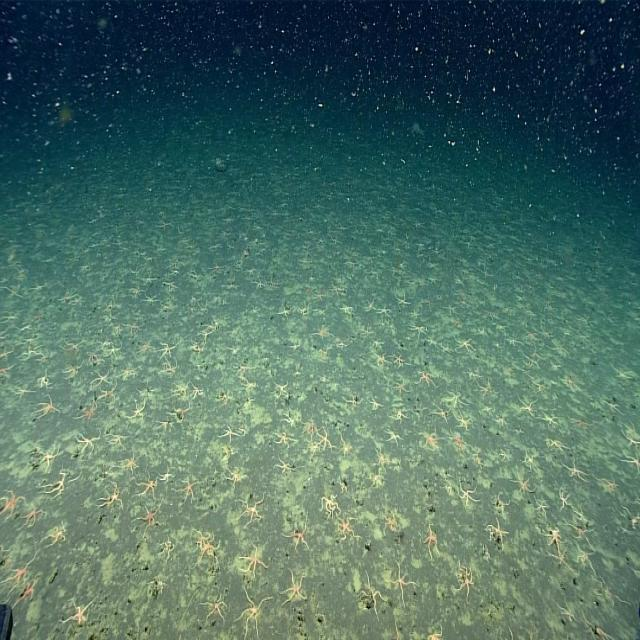brittle-stars: (191, 521, 218, 569), (240, 589, 260, 640), (61, 595, 93, 626), (15, 378, 42, 411), (8, 559, 31, 597), (454, 477, 478, 512), (454, 564, 477, 600), (241, 543, 265, 577), (289, 518, 309, 558), (570, 404, 591, 441), (336, 510, 358, 545), (564, 454, 586, 488), (23, 506, 45, 539), (75, 432, 99, 462), (18, 581, 38, 616), (360, 577, 380, 612), (572, 507, 591, 543), (488, 518, 508, 552), (203, 590, 229, 616), (285, 574, 303, 611), (394, 563, 410, 604), (420, 526, 437, 562), (40, 401, 64, 426), (318, 489, 341, 515), (602, 583, 624, 610), (405, 316, 429, 340), (624, 506, 640, 542), (520, 447, 541, 474), (275, 448, 292, 481), (46, 474, 66, 502), (88, 346, 106, 377), (177, 473, 193, 507), (2, 492, 20, 522), (383, 509, 402, 537), (103, 483, 121, 512), (548, 526, 566, 555), (433, 400, 450, 430), (23, 343, 44, 367), (577, 548, 595, 576), (625, 442, 640, 475), (2, 308, 20, 335), (82, 402, 98, 432), (494, 488, 508, 522), (553, 551, 572, 576), (600, 395, 622, 416), (540, 410, 562, 431), (314, 429, 332, 454), (456, 402, 470, 434), (517, 398, 538, 419), (94, 372, 114, 394), (418, 365, 436, 389), (602, 475, 620, 499), (244, 498, 259, 526), (139, 473, 158, 495), (98, 388, 120, 407), (439, 300, 462, 318), (223, 420, 240, 444), (142, 503, 156, 532), (36, 444, 51, 471), (67, 337, 87, 357), (340, 434, 354, 462), (181, 343, 204, 360), (395, 376, 410, 402), (200, 320, 219, 340), (420, 432, 439, 452), (225, 470, 243, 491), (414, 627, 443, 640), (304, 440, 321, 462), (171, 382, 190, 401), (348, 390, 366, 410), (128, 316, 144, 338), (457, 335, 473, 357), (476, 380, 492, 402), (210, 257, 225, 280), (625, 423, 640, 446), (450, 430, 463, 456), (534, 495, 548, 519), (276, 301, 289, 326), (36, 372, 54, 390), (549, 435, 567, 453), (108, 342, 123, 363), (334, 340, 355, 355), (8, 278, 19, 306), (396, 290, 410, 312), (517, 479, 531, 501), (293, 302, 309, 321), (166, 262, 182, 280), (373, 351, 389, 369), (0, 347, 13, 369), (165, 540, 175, 568), (526, 328, 540, 348), (448, 385, 462, 405), (395, 349, 407, 372), (525, 352, 537, 375), (1, 365, 14, 386), (276, 436, 294, 451), (175, 405, 187, 427), (516, 422, 528, 444), (52, 524, 61, 553), (220, 388, 233, 408), (103, 297, 119, 313), (340, 302, 356, 318), (424, 272, 440, 288), (376, 303, 390, 321), (552, 342, 566, 360), (132, 399, 142, 424), (161, 421, 174, 440), (456, 273, 469, 292), (386, 428, 401, 444), (274, 380, 287, 398), (361, 324, 374, 342), (506, 335, 519, 353), (364, 298, 376, 317), (123, 368, 139, 382), (189, 388, 205, 402), (562, 376, 576, 392), (534, 378, 548, 394), (126, 462, 139, 479), (303, 419, 320, 432), (250, 262, 260, 284), (290, 335, 300, 357), (377, 448, 388, 468), (113, 433, 125, 451), (194, 304, 212, 316), (286, 408, 296, 429), (474, 450, 484, 471), (316, 326, 331, 340), (329, 282, 344, 296), (236, 359, 252, 372), (157, 220, 173, 233), (162, 466, 172, 486), (139, 275, 157, 286), (164, 360, 179, 373), (160, 340, 176, 352), (398, 407, 408, 426), (316, 305, 327, 322), (65, 362, 78, 376), (346, 258, 359, 272), (479, 268, 494, 280), (82, 261, 92, 278), (372, 399, 382, 416), (374, 335, 384, 352), (498, 411, 508, 428), (477, 327, 489, 341), (226, 345, 238, 359), (191, 269, 202, 284), (161, 297, 172, 311), (244, 377, 255, 391), (312, 294, 326, 305), (560, 490, 568, 508), (129, 286, 142, 297), (130, 263, 140, 276), (144, 296, 159, 304), (499, 448, 508, 461), (427, 337, 436, 349), (134, 248, 145, 256), (165, 282, 175, 290), (116, 325, 122, 338)
